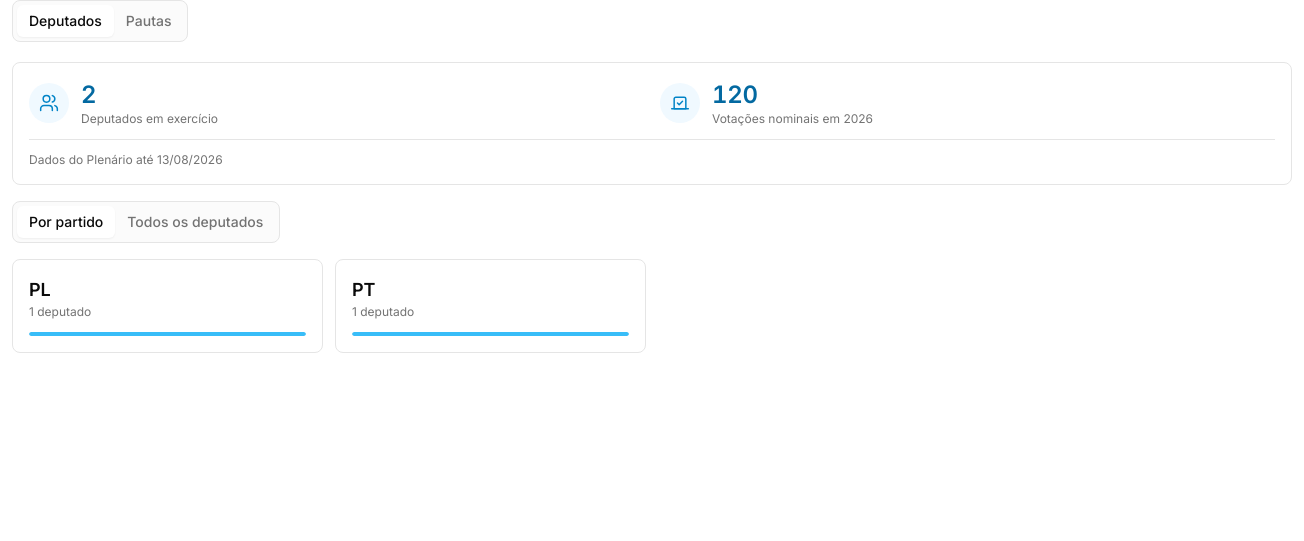
Test: CamaraView › busca por nome, partido ou estado
Click the tab "Todos os deputados" at [195, 222], box [115,206,275,238]
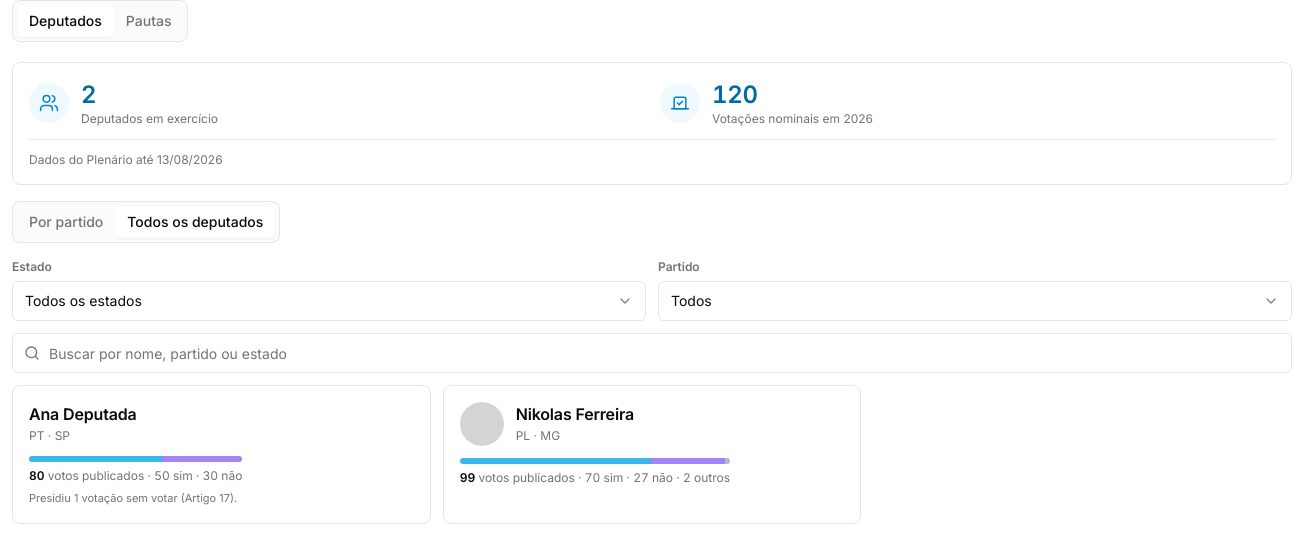
expect the text "Nikolas Ferreira" is shown: met, box [516,404,634,424]
Type "SP" into the field named "Buscar deputado" at [652, 353], box [12,333,1292,373]
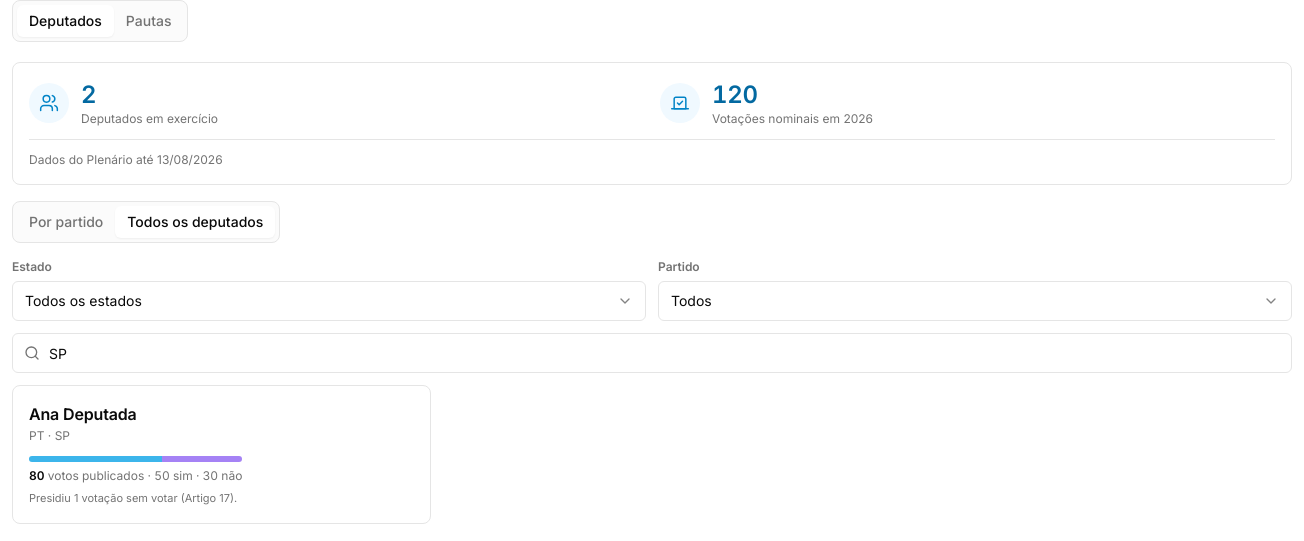
expect the text "Ana Deputada" is shown: met, box [29,404,137,424]
expect the button "Nikolas Ferreira" is gone: met
